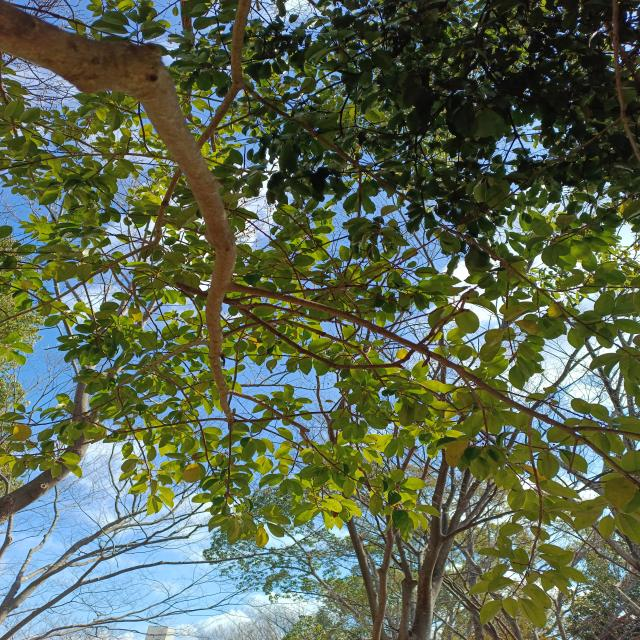Branch: (3, 2, 235, 423)
Twig: (230, 284, 639, 484), (241, 83, 469, 238), (129, 0, 249, 259), (176, 284, 461, 369)
